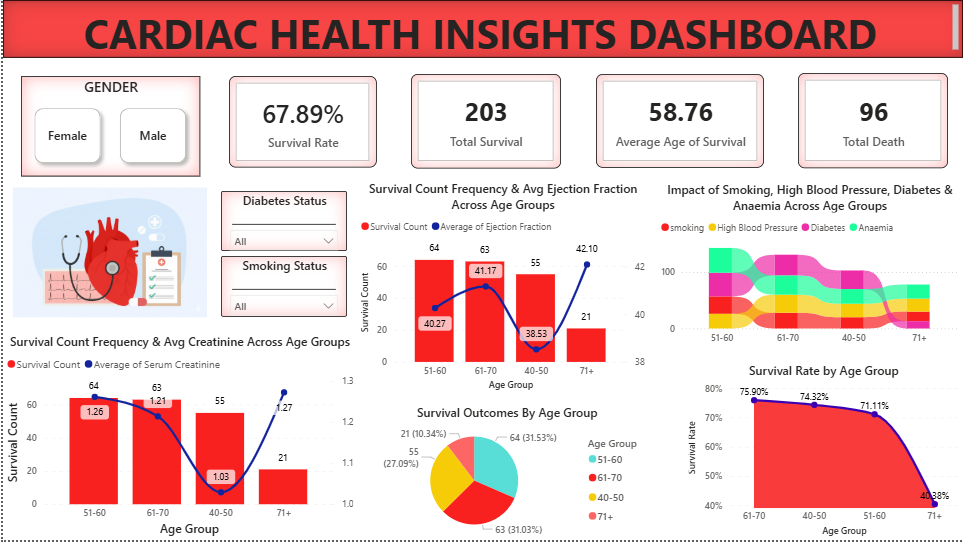

The page's visual inventory and layout, read from the dashboard file:
{"tool":"powerbi","page":{"name":" Cardiac Health","canvas":[1280,720],"ordinal":0},"visuals":[{"type":"textbox","box":[0,0,1280,77.3],"z":0},{"type":"cardVisual","fields":{"Data":["heart_Disease_clinical_records_.Survival Rate"]},"box":[300.7,100.8,196.5,122],"z":1000},{"type":"cardVisual","fields":{"Data":["heart_Disease_clinical_records_.Average Age of Survival"]},"box":[790.7,98.7,224,125.3],"z":2000},{"type":"cardVisual","fields":{"Data":["heart_Disease_clinical_records_.Total Survival"]},"box":[544.3,99.1,199.9,126],"z":3000},{"type":"cardVisual","fields":{"Data":["heart_Disease_clinical_records_.Total Death"]},"box":[1060,97.3,200,126.7],"z":4000},{"type":"lineClusteredColumnComboChart","title":"Survival Count Frequency & Avg Creatinine Across Age Groups","fields":{"Category":["heart_Disease_clinical_records_.Age Group"],"Y":["CountNonNull(heart_Disease_clinical_records_.DEATH_EVENT)"],"Y2":["Avg(heart_Disease_clinical_records_.serum_creatinine)"]},"box":[0,444.6,472.1,276.6],"z":5000},{"type":"lineClusteredColumnComboChart","title":"Survival Count Frequency & Avg Ejection Fraction Across Age Groups","fields":{"Category":["heart_Disease_clinical_records_.Age Group"],"Y":["CountNonNull(heart_Disease_clinical_records_.DEATH_EVENT)"],"Y2":["Avg(heart_Disease_clinical_records_.ejection_fraction)"]},"box":[472,240.2,389.7,285.6],"z":6000},{"type":"lineChart","fields":{"Category":["heart_Disease_clinical_records_.Age Group"],"Y":["heart_Disease_clinical_records_.Survival Rate"]},"box":[909.8,483.1,370.2,236.7],"z":7000},{"type":"ribbonChart","title":"Impact of Smoking, High Blood Pressure, Diabetes & Anaemia Across Age Groups","fields":{"Category":["heart_Disease_clinical_records_.Age Group"],"Y":["Sum(heart_Disease_clinical_records_.smoking)","Sum(heart_Disease_clinical_records_.high_blood_pressure)","Sum(heart_Disease_clinical_records_.diabetes)","Sum(heart_Disease_clinical_records_.anaemia)"]},"box":[872,241.3,408,226.7],"z":8000},{"type":"advancedSlicerVisual","fields":{"Values":["heart_Disease_clinical_records_.Gender"]},"box":[23.5,100.8,238.5,134.4],"z":9000},{"type":"pieChart","title":"Survival Outcomes By Age Group","fields":{"Category":["heart_Disease_clinical_records_.Age Group"],"Y":["heart_Disease_clinical_records_.Total Survival"]},"box":[472.1,538.2,400.5,183.1],"z":10000},{"type":"slicer","title":"Diabetes Status","fields":{"Values":["heart_Disease_clinical_records_.diabetes"]},"box":[290.7,254.7,168,80],"z":11000},{"type":"slicer","title":"Smoking Status","fields":{"Values":["heart_Disease_clinical_records_.smoking"]},"box":[290.7,341.3,168,81.3],"z":12000},{"type":"image","box":[8,240,269.3,193.3],"z":13000}]}

Visuals, with their boxes in screenshot pixels (x1, y1, x2, y2), scaled from the page's 1280x720 canvas onto the 963x542 screenshot:
textbox: bbox=(0, 0, 962, 58)
cardVisual - heart_Disease_clinical_records_.Survival Rate: bbox=(226, 76, 374, 168)
cardVisual - heart_Disease_clinical_records_.Average Age of Survival: bbox=(595, 74, 763, 169)
cardVisual - heart_Disease_clinical_records_.Total Survival: bbox=(410, 75, 560, 169)
cardVisual - heart_Disease_clinical_records_.Total Death: bbox=(797, 73, 948, 169)
"Survival Count Frequency & Avg Creatinine Across Age Groups" lineClusteredColumnComboChart: bbox=(0, 335, 355, 541)
"Survival Count Frequency & Avg Ejection Fraction Across Age Groups" lineClusteredColumnComboChart: bbox=(355, 181, 648, 396)
lineChart - heart_Disease_clinical_records_.Age Group x heart_Disease_clinical_records_.Survival Rate: bbox=(684, 364, 962, 541)
"Impact of Smoking, High Blood Pressure, Diabetes & Anaemia Across Age Groups" ribbonChart: bbox=(656, 182, 962, 352)
advancedSlicerVisual - heart_Disease_clinical_records_.Gender: bbox=(18, 76, 197, 177)
"Survival Outcomes By Age Group" pieChart: bbox=(355, 405, 656, 541)
"Diabetes Status" slicer: bbox=(219, 192, 345, 252)
"Smoking Status" slicer: bbox=(219, 257, 345, 318)
image: bbox=(6, 181, 209, 326)
